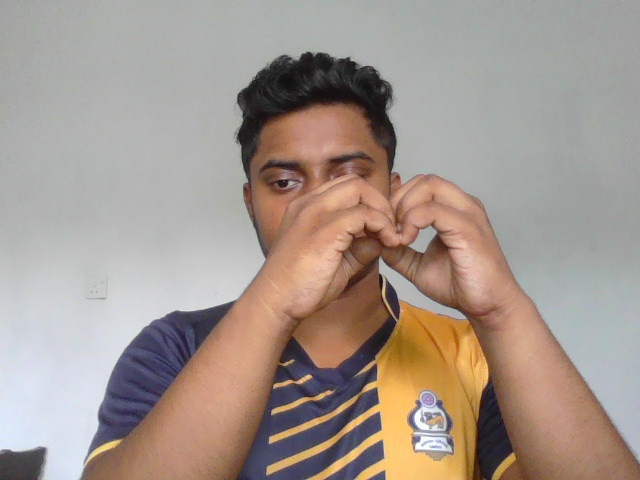More: (274, 171, 513, 325)
